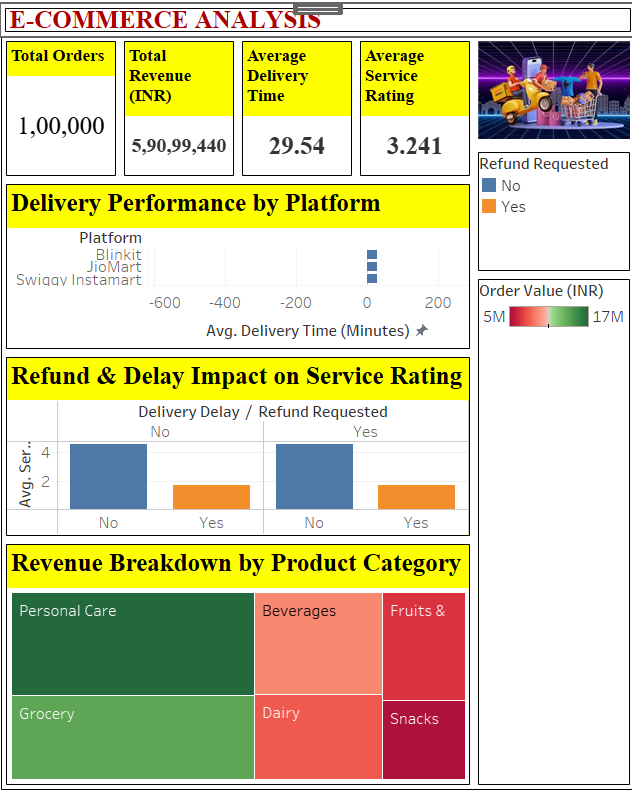

This screenshot's page, from the dashboard's own definition file:
{"tool":"tableau","page":{"name":"Dashboard 1","canvas":[650,860],"ordinal":0},"visuals":[{"type":"text","box":[8,8.6,634,34.3]},{"type":"worksheet","title":"Sheet 1","mark":"Automatic","box":[9,44,118,153.3]},{"type":"worksheet","title":"Sheet 2","mark":"Automatic","box":[127,44,118,153.3]},{"type":"worksheet","title":"Sheet 3","mark":"Automatic","box":[245,44,118,153.3]},{"type":"worksheet","title":"Sheet 3 (2)","mark":"Automatic","box":[363,44,118,153.3]},{"type":"image","param":"C:/Users/Vinusha/Pictures/Saved Pictures/images.jpg","box":[481,44,160,119]},{"type":"legend","title":"Sheet 7","param":"[federated.12u3vjz024ahxu16vafh41qjvkap].[none:Refund Requested:nk]","box":[481,163,160,136.2]},{"type":"worksheet","title":"Sheet 5","mark":"Bar","rows":["Platform"],"cols":["Delivery Time (Minutes)"],"box":[9,197.3,472,185.5]},{"type":"legend","title":"Sheet 6","param":"[federated.12u3vjz024ahxu16vafh41qjvkap].[sum:Order Value (INR):qk]","box":[481,299.2,160,551.2]},{"type":"worksheet","title":"Sheet 7","mark":"Automatic","rows":["Service Rating"],"cols":["Delivery Delay","Refund Requested"],"box":[9,382.8,472,200.5]},{"type":"worksheet","title":"Sheet 6","mark":"Automatic","box":[9,583.3,472,267]}]}

Visuals, with their boxes in screenshot pixels (x1, y1, x2, y2):
text: bbox=(30, 2, 626, 34)
"Sheet 1" worksheet: bbox=(31, 35, 142, 179)
"Sheet 2" worksheet: bbox=(142, 35, 253, 179)
"Sheet 3" worksheet: bbox=(253, 35, 364, 179)
"Sheet 3 (2)" worksheet: bbox=(364, 35, 475, 179)
image: bbox=(475, 35, 625, 147)
"Sheet 7" legend: bbox=(475, 147, 625, 275)
"Sheet 5" worksheet (Bar marks): bbox=(31, 179, 475, 354)
"Sheet 6" legend: bbox=(475, 275, 625, 790)
"Sheet 7" worksheet: bbox=(31, 354, 475, 542)
"Sheet 6" worksheet: bbox=(31, 542, 475, 790)
